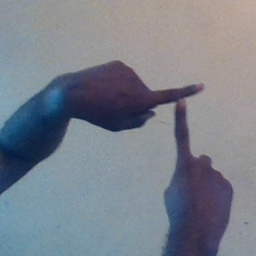T: (135, 64, 220, 177)
